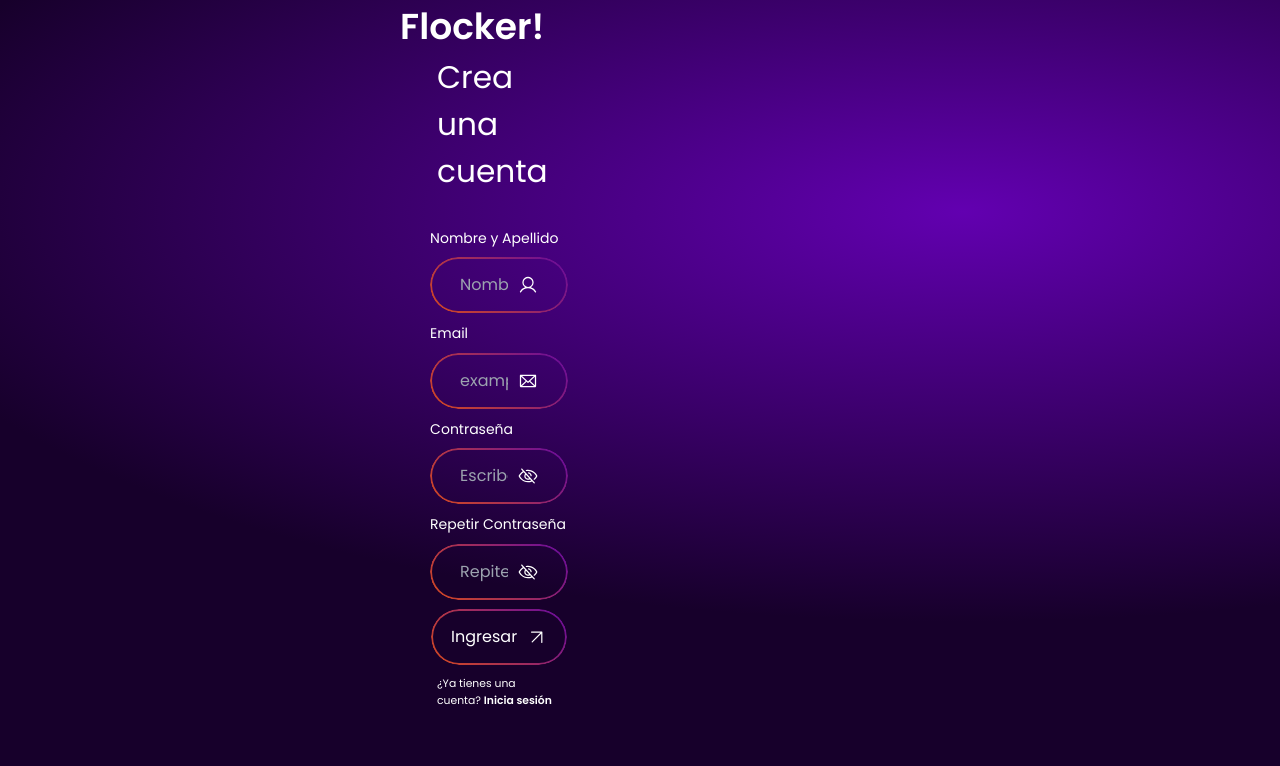
Test: SignUp component › Muestra errores si algún campo tiene datos inválidos
This screenshot has width=1280, height=766.
# Completar con un email inválido
Type "email-invalido" into the field with placeholder "example@example.com".
click(484, 381); type("email-invalido")  # box [460,369,508,393]
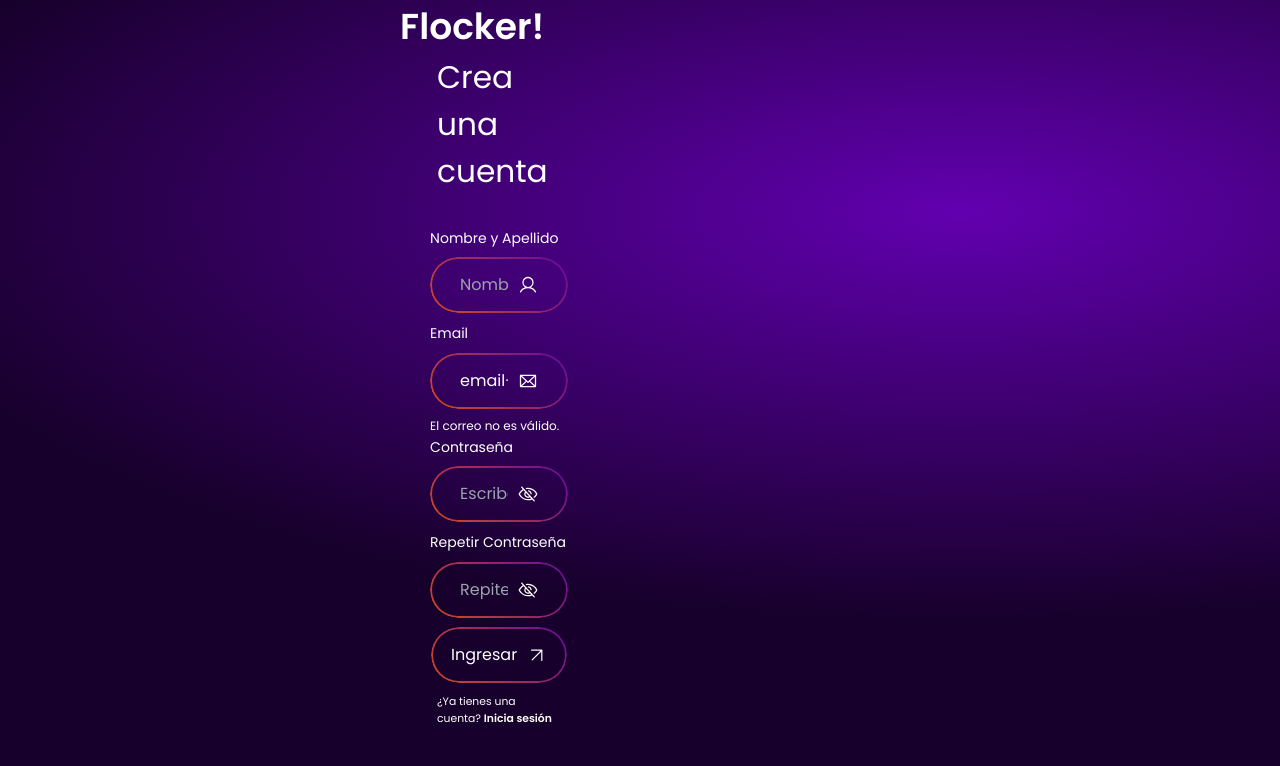
# Completar con una contraseña inválida
Type "short" into the password field with placeholder "Escribe tu contraseña".
click(484, 494); type("short")  # box [460,482,508,506]
(page scrolled)
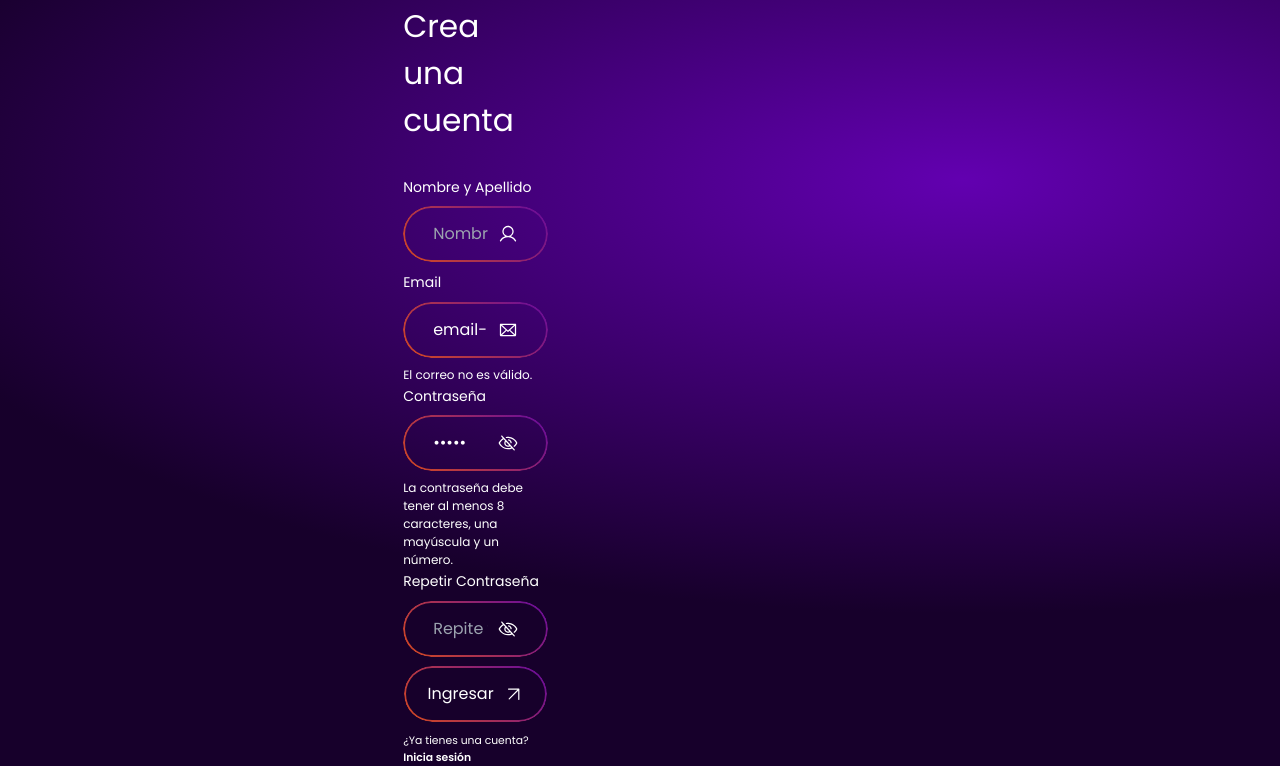
Expected: the button "Ingresar" is disabled, [403,665,548,723]
Now the text "El correo no es válido." is shown, box [403,366,548,384]
Now the text "La contraseña debe tener al menos 8 caracteres, una mayúscula y un número" is shown, box [403,479,523,568]
